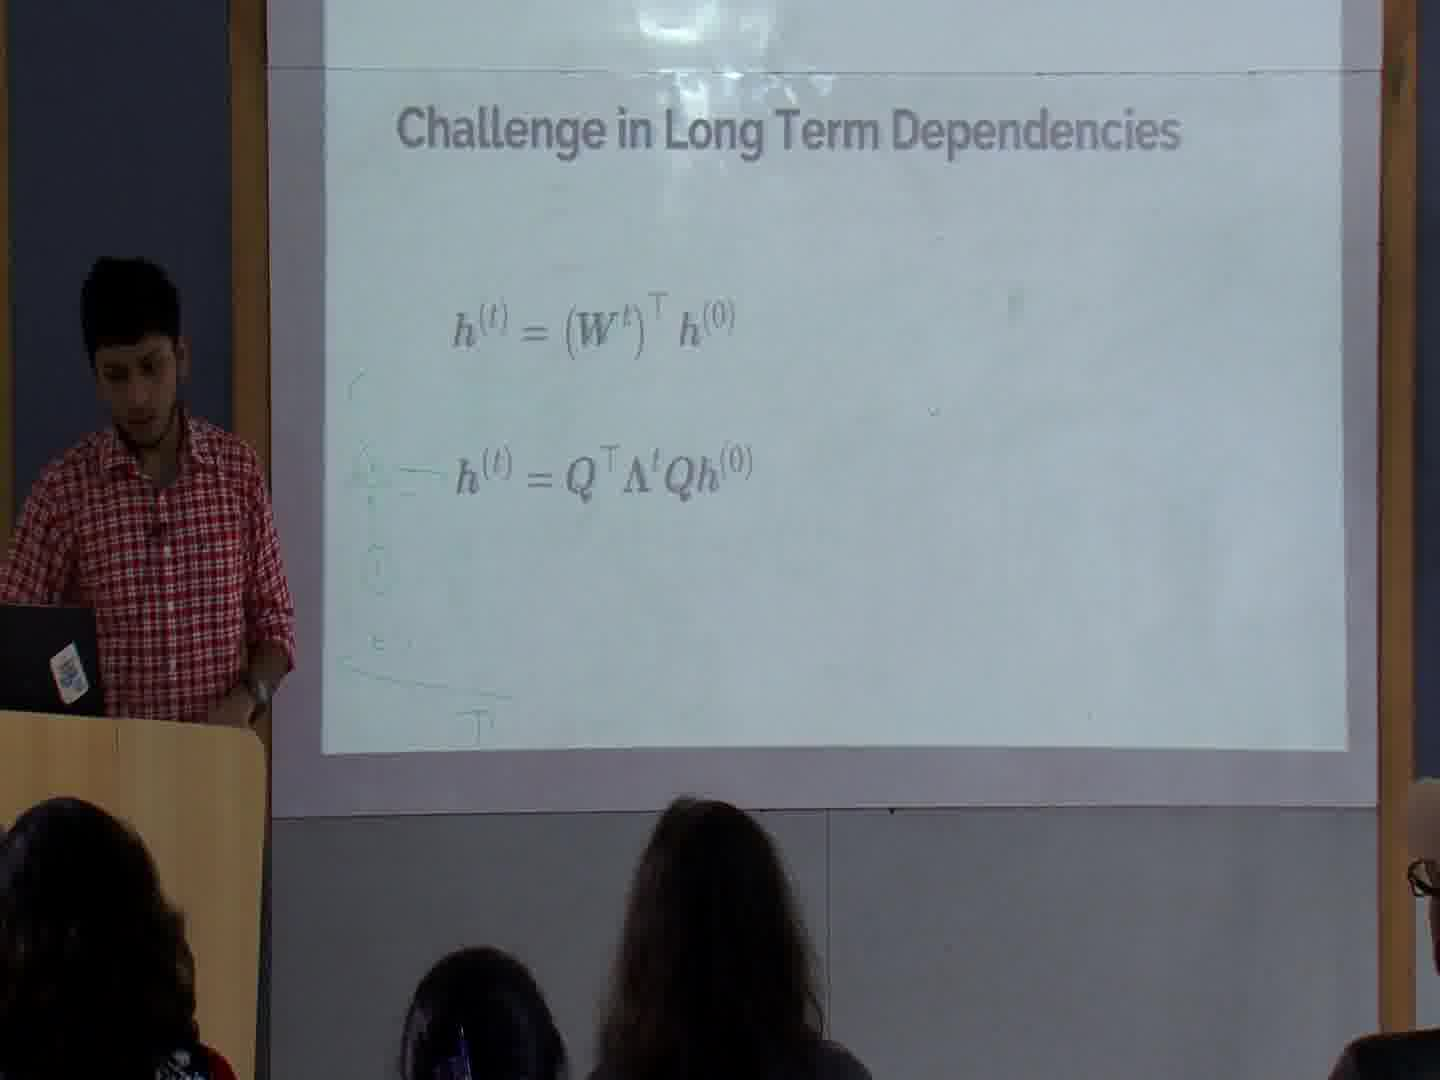eq: (448, 289, 743, 363), (452, 440, 759, 509)
